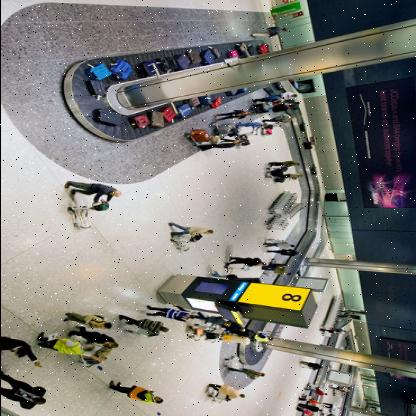airport-trolley: (64, 199, 107, 233), (182, 124, 223, 148), (166, 232, 198, 254), (184, 323, 216, 344), (208, 392, 228, 405)
